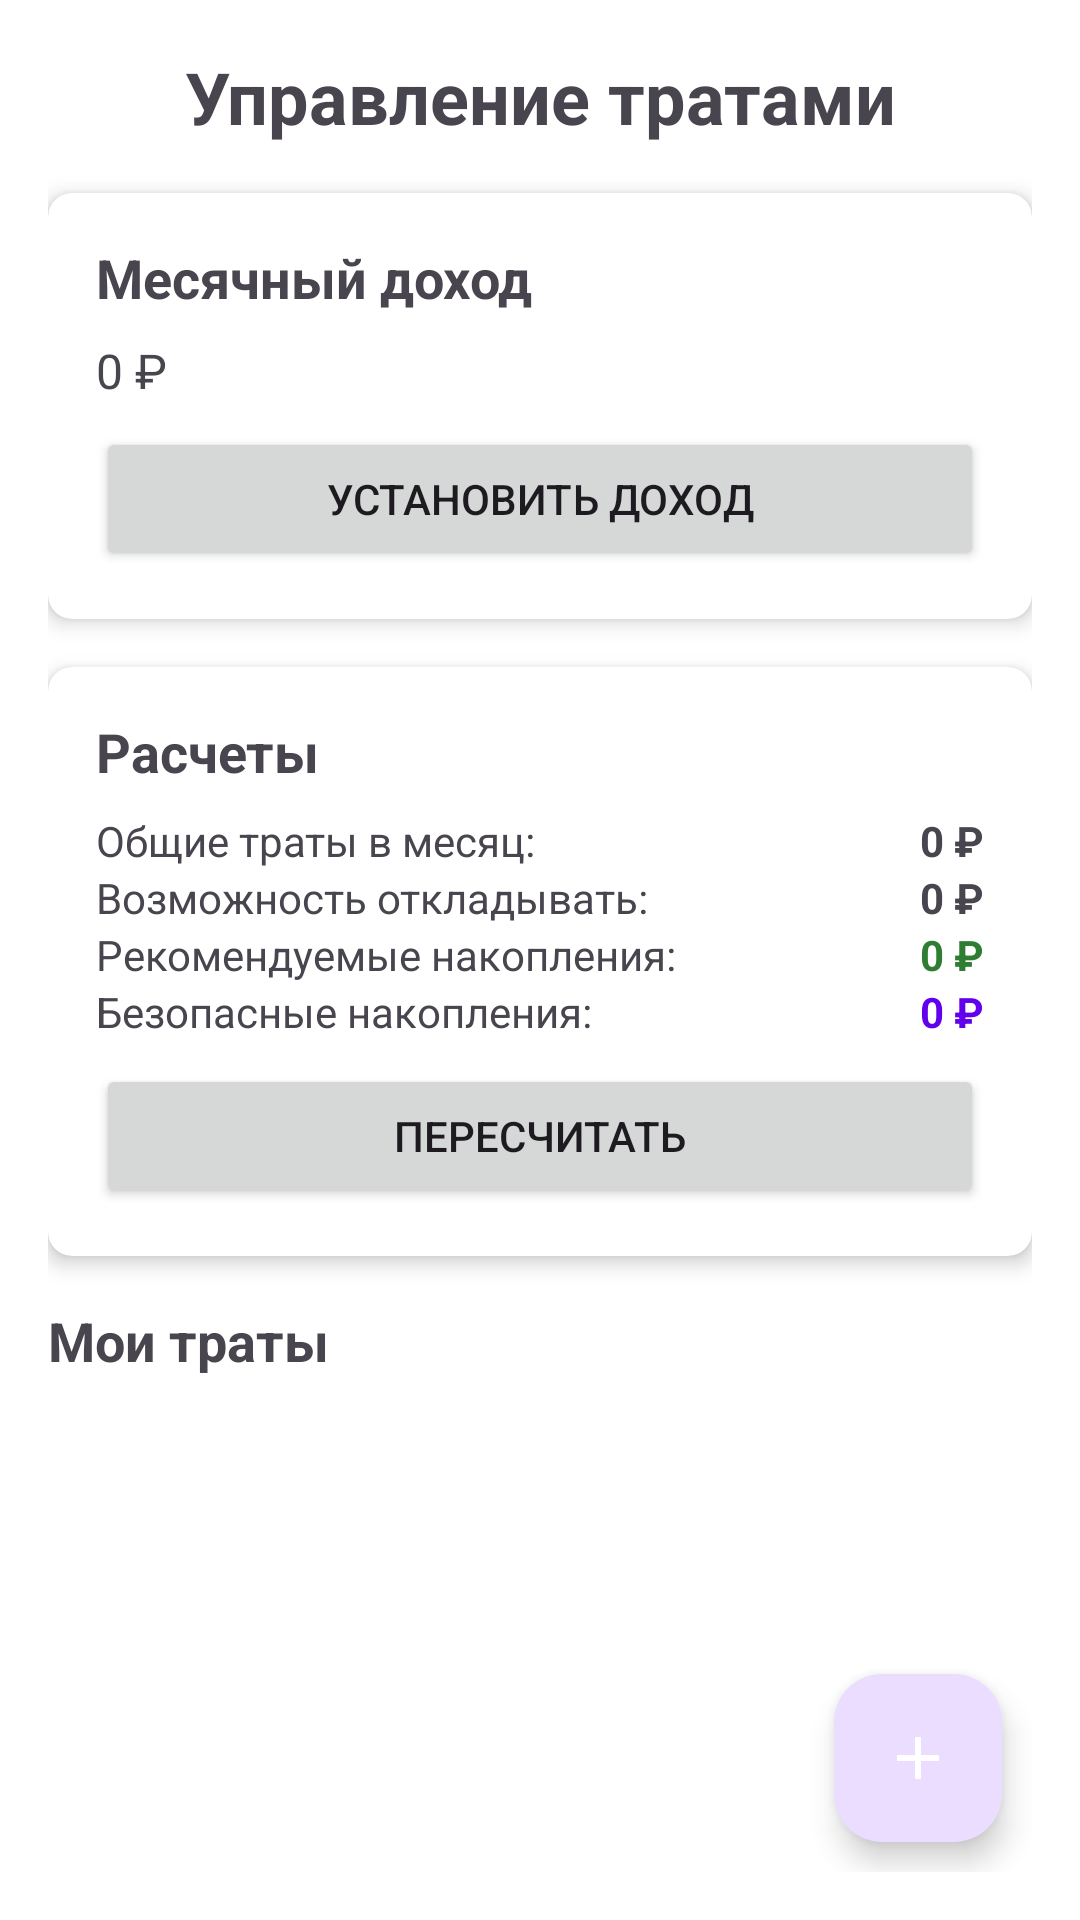

Where icons sit on this 1080px x 1920px app screen, as (x1,y1,x2,y2):
add: (834,1674,1002,1842)
